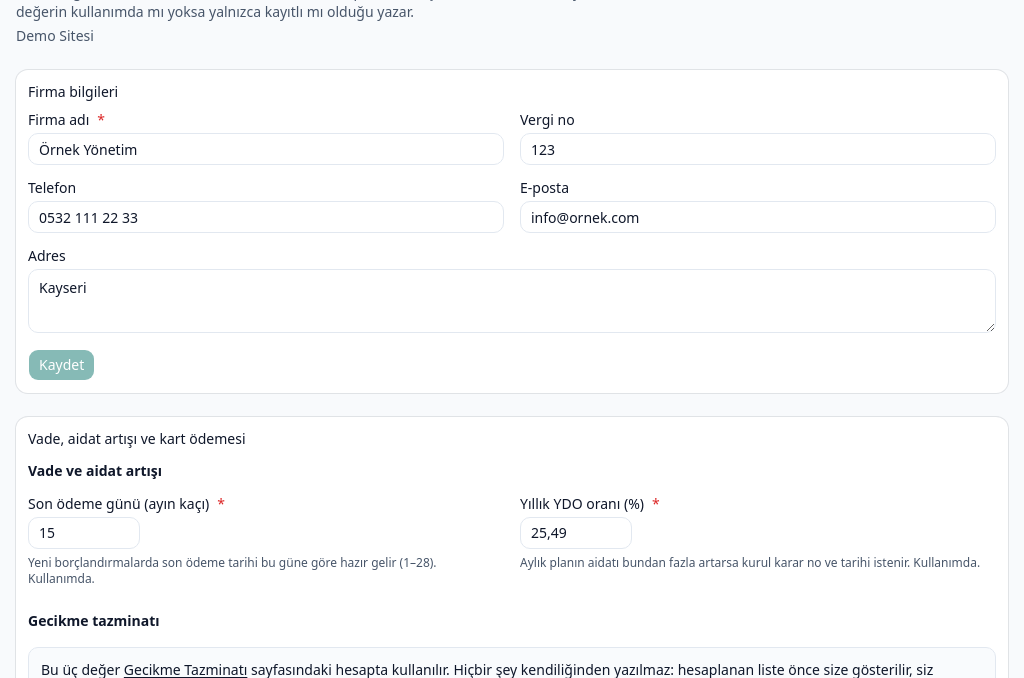
Test: Ayarlar › refuses wrong rule values before anything is sent
Replace the text in the field labelled "Son ödeme günü (ayın kaçı) *" with "31" at point(84, 532), box [28,516,140,548]
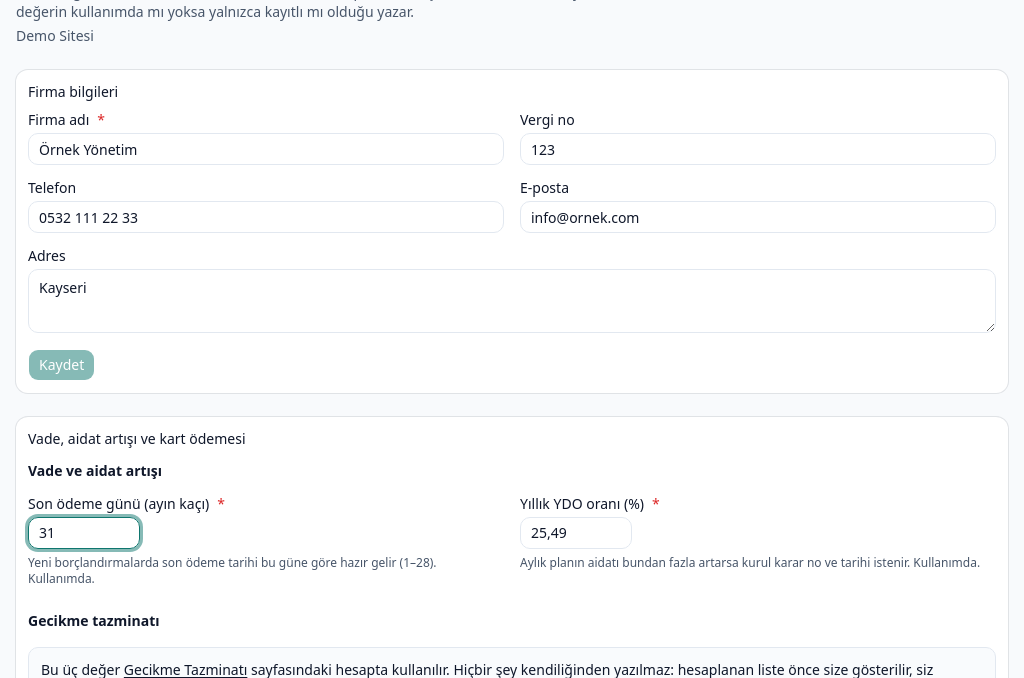
Replace the text in the field labelled "Yıllık YDO oranı (%) *" with "150" at point(576, 532), box [520,516,632,548]
(page scrolled)
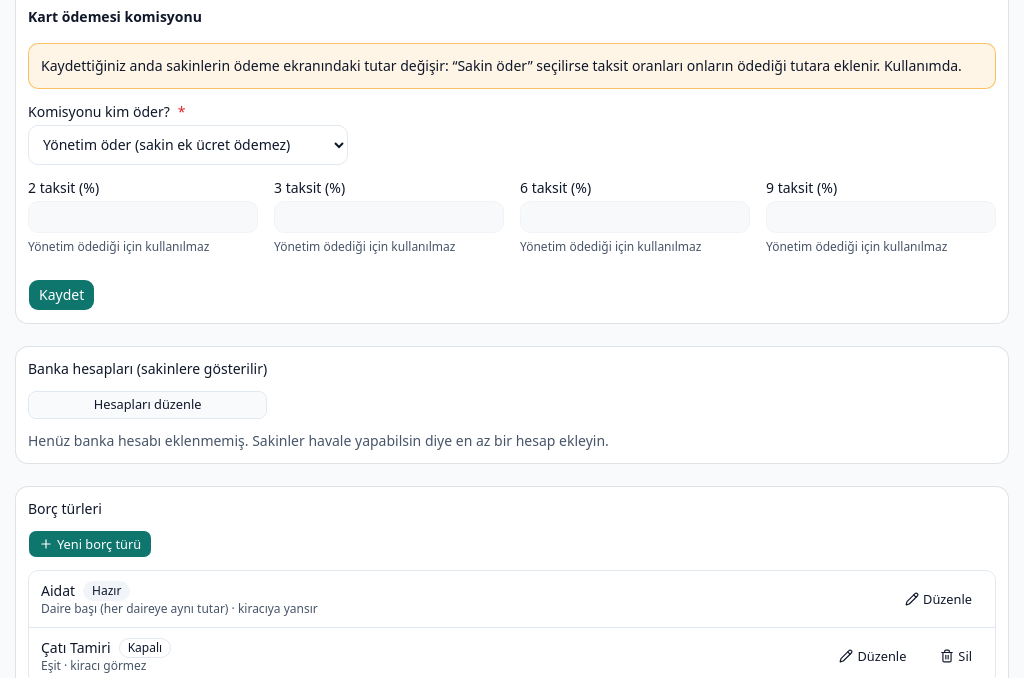
Click the button "Kaydet" at point(62, 294), box [28,278,95,310]
(page scrolled)
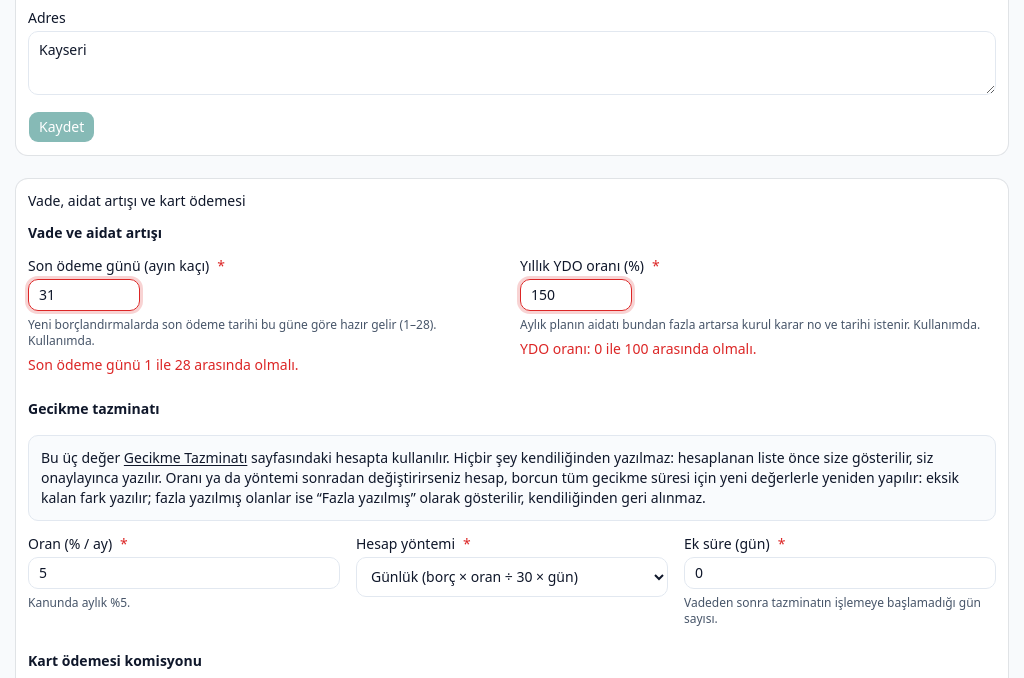
Expected: the text "Son ödeme günü 1 ile 28 arasında olmalı." is shown, [28,354,299,374]
Expected: the text "YDO oranı: 0 ile 100 arasında olmalı." is shown, [520,338,757,358]
